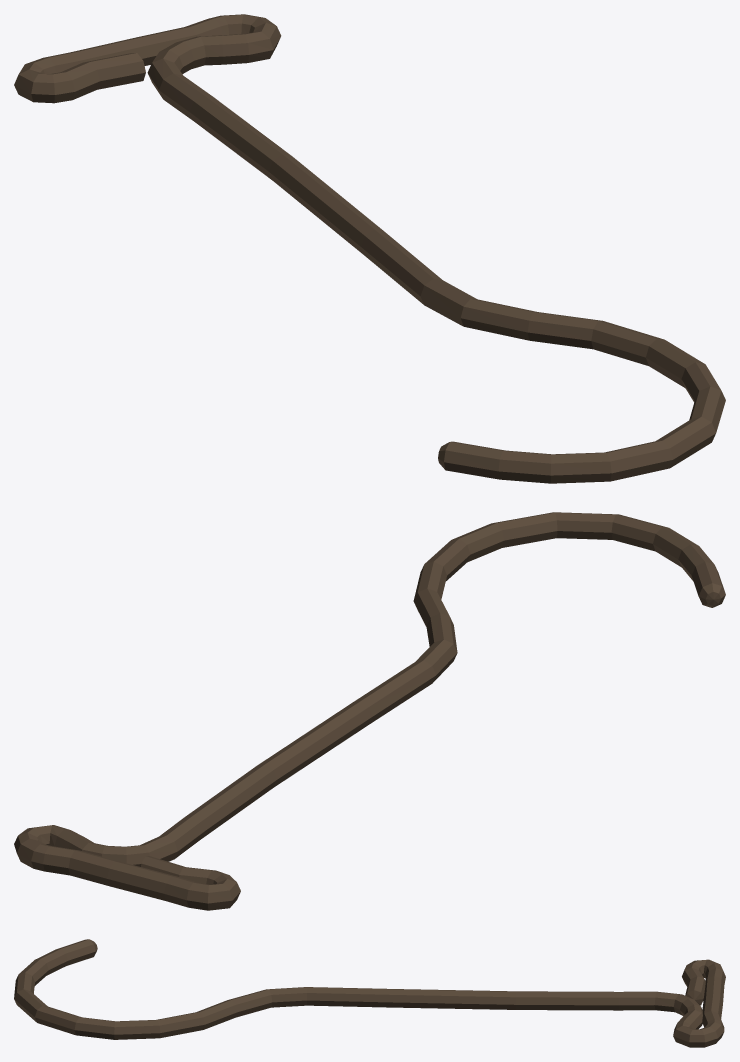
File: wip_hook.glb
The picture shows the model from 3 angles, top to bottom: view 1: azimuth 30°, elevation 25°; view 2: azimuth 150°, elevation 25°; view 3: azimuth 270°, elevation 25°; orthographic projection. The views are drawn at different scales.
Parts seen in each view (by area): view 1: product-ac1e8b2f-9d31-43ca-b489-36c24f54b396-body; view 2: product-ac1e8b2f-9d31-43ca-b489-36c24f54b396-body; view 3: product-ac1e8b2f-9d31-43ca-b489-36c24f54b396-body.
Boxes of the visible parts, left/top/right/bottom form: product-ac1e8b2f-9d31-43ca-b489-36c24f54b396-body: left=14, top=14, right=725, bottom=483; product-ac1e8b2f-9d31-43ca-b489-36c24f54b396-body: left=14, top=512, right=725, bottom=910; product-ac1e8b2f-9d31-43ca-b489-36c24f54b396-body: left=14, top=939, right=725, bottom=1047.
Bounding box in the file's own units: 0.1459 × 0.0126 × 0.45.
